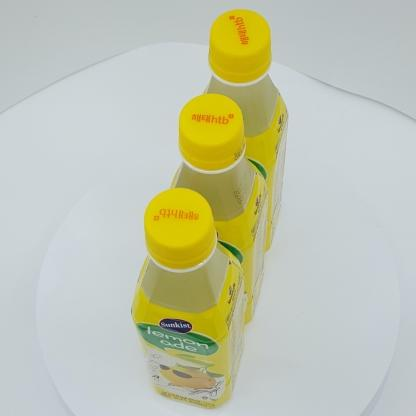-------350ML: (130, 188, 246, 409), (164, 92, 269, 327), (195, 7, 289, 256)
